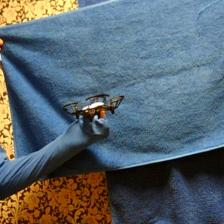drone: (63, 93, 125, 122)
